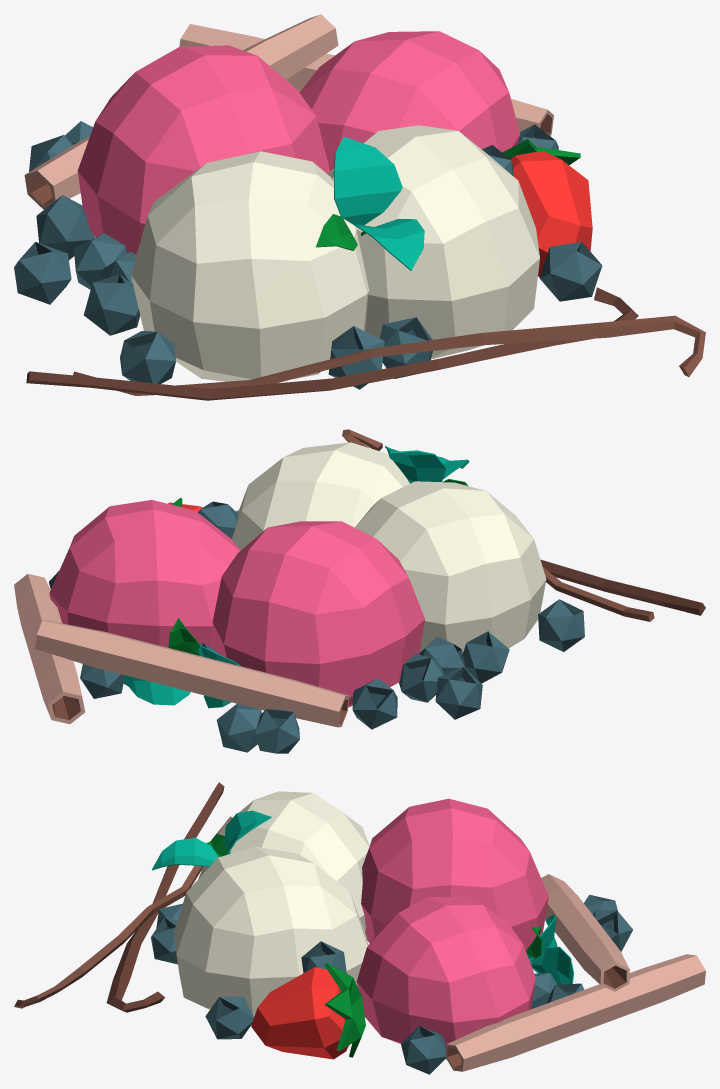
Rendered from ice_cream_dish_001.glb.
3 renders of one model, top to bottom at view 1: azimuth 30°, elevation 25°; view 2: azimuth 150°, elevation 25°; view 3: azimuth 270°, elevation 25°, orthographic. The views are drawn at different scales.
Visible parts, largest first — view 1: ice_cream_dish_001; view 2: ice_cream_dish_001; view 3: ice_cream_dish_001.
Boxes of the visible parts, left/top/right/bottom form: ice_cream_dish_001: left=14, top=14, right=705, bottom=400; ice_cream_dish_001: left=14, top=429, right=705, bottom=753; ice_cream_dish_001: left=14, top=782, right=705, bottom=1074.
Size of the model in its own units: 0.1931 by 0.0576 by 0.22.
1 material, 1 textured.
